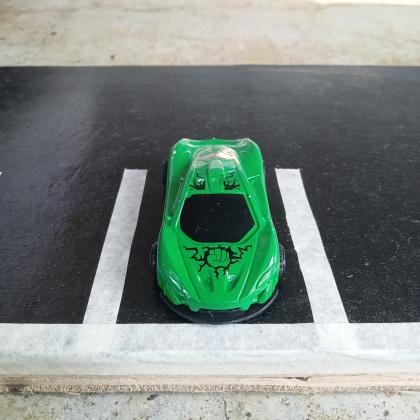Car: (151, 136, 286, 326)
